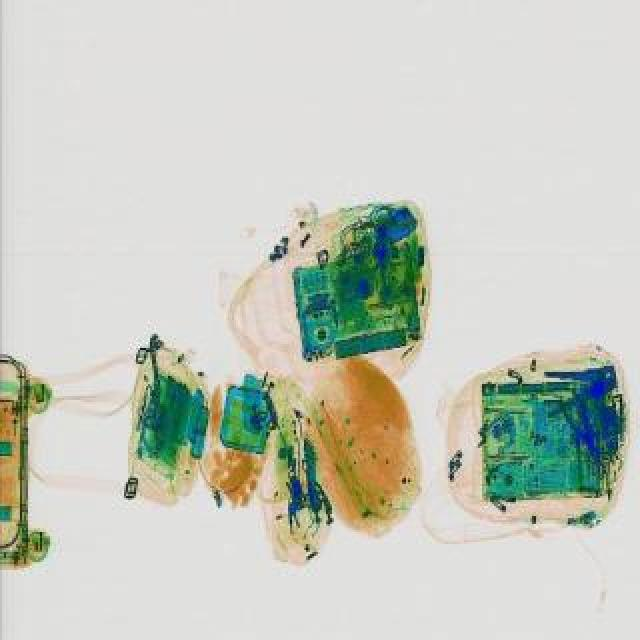wrench: (554, 384, 614, 470), (534, 356, 622, 414)
